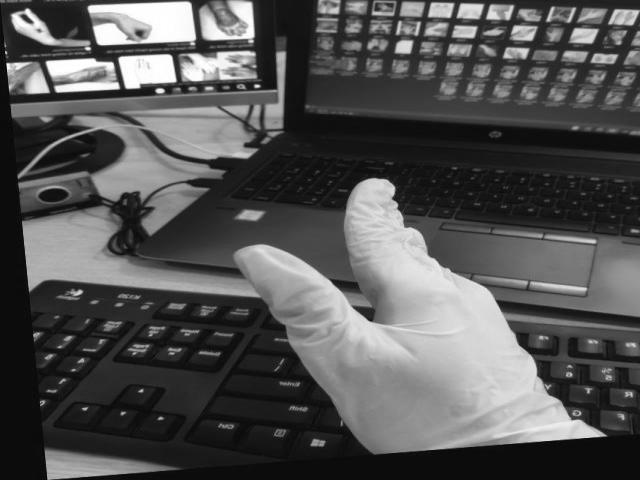gloved: (238, 177, 606, 445)
